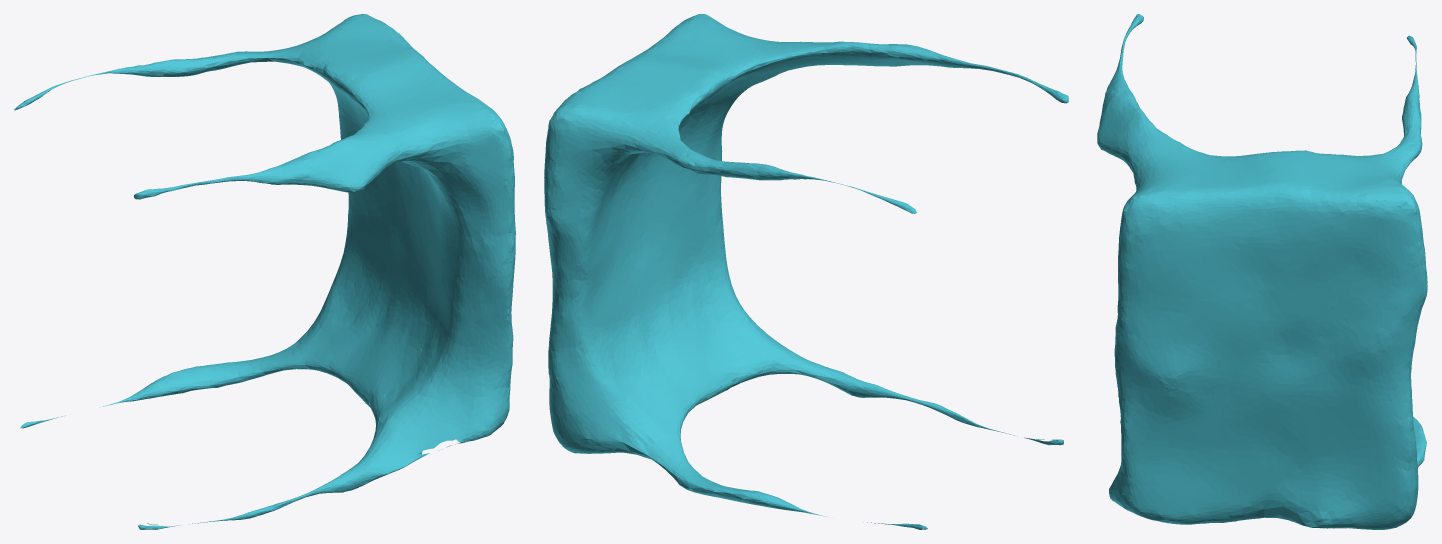
3 renders of one model, left to right at view 1: azimuth 30°, elevation 25°; view 2: azimuth 150°, elevation 25°; view 3: azimuth 270°, elevation 25°, orthographic. The views are drawn at different scales.
Parts seen in each view (by area): view 1: Renderer Node; view 2: Renderer Node; view 3: Renderer Node.
Boxes of the visible parts, x1,y1,x2,y2 form: Renderer Node: [14, 14, 515, 529]; Renderer Node: [544, 14, 1068, 529]; Renderer Node: [1097, 14, 1427, 529].
Bounding box in the file's own units: 0.7985 × 0.7011 × 0.5934.
Materials: 1 (1 with a texture image).
